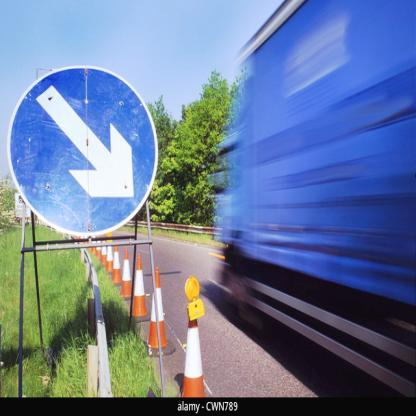Keep right: (10, 63, 162, 241)
